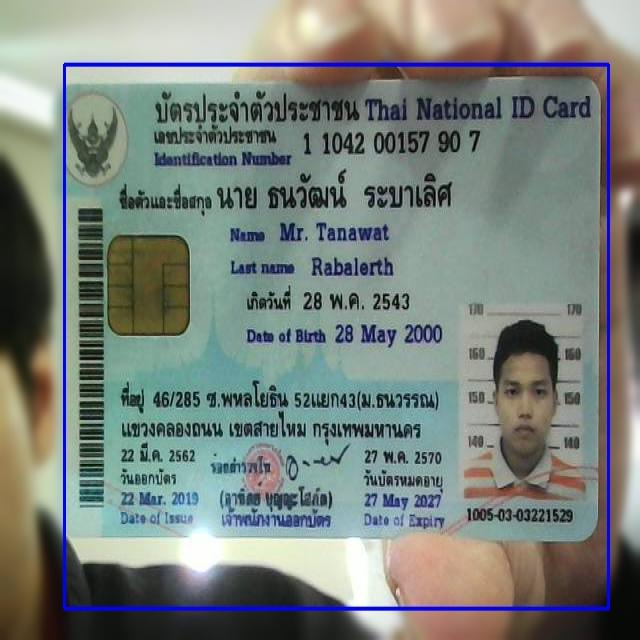Address_th: (112, 376, 455, 443)
Date_of_Birth: (330, 316, 448, 352)
First_Name: (276, 217, 393, 248)
ID_Number: (300, 124, 486, 161)
Last_Name: (309, 251, 397, 283)
Thai_Name: (214, 168, 458, 218)
